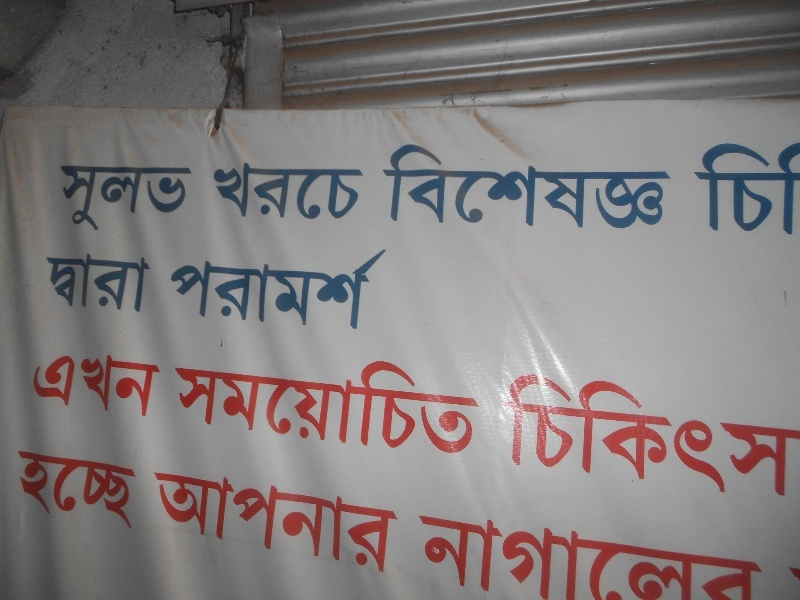text: (513, 372, 528, 503), (529, 372, 544, 503), (545, 372, 560, 503), (561, 372, 576, 503), (577, 372, 592, 503), (593, 372, 608, 503), (609, 372, 624, 503), (625, 372, 640, 503), (641, 372, 656, 503), (657, 372, 672, 503), (673, 372, 688, 503), (689, 372, 704, 503), (705, 372, 720, 503), (721, 372, 736, 503), (737, 372, 752, 503), (753, 372, 768, 503), (769, 372, 784, 503), (785, 372, 799, 503), (177, 351, 192, 459), (193, 351, 208, 459), (209, 351, 224, 459), (225, 351, 240, 459), (241, 351, 256, 459), (257, 351, 272, 459), (273, 351, 288, 459), (289, 351, 304, 459), (305, 351, 320, 459), (321, 351, 336, 459), (337, 351, 352, 459), (353, 351, 368, 459), (369, 351, 384, 459), (385, 351, 400, 459), (401, 351, 416, 459), (417, 351, 432, 459), (433, 351, 448, 459), (449, 351, 464, 459), (465, 351, 480, 459), (161, 469, 176, 575), (177, 469, 192, 575), (193, 469, 208, 575), (209, 469, 224, 575), (225, 469, 240, 575), (241, 469, 256, 575), (257, 469, 272, 575), (273, 469, 288, 575), (289, 469, 304, 575), (305, 469, 320, 575), (321, 469, 336, 575), (337, 469, 352, 575), (353, 469, 368, 575), (369, 469, 384, 575), (146, 469, 160, 575), (385, 469, 399, 575), (433, 507, 448, 600), (449, 507, 464, 600), (465, 507, 480, 600), (481, 507, 496, 600), (497, 507, 512, 600), (513, 507, 528, 600), (529, 507, 544, 600), (545, 507, 560, 600), (561, 507, 576, 600), (577, 507, 592, 600), (593, 507, 608, 600), (609, 507, 624, 600), (625, 507, 640, 600), (641, 507, 656, 600), (657, 507, 672, 600), (673, 507, 688, 600), (689, 507, 704, 600), (705, 507, 720, 600), (721, 507, 736, 600), (737, 507, 752, 600), (705, 143, 720, 234), (721, 143, 736, 234), (737, 143, 752, 234), (753, 143, 768, 234), (769, 143, 784, 234), (785, 143, 800, 234), (385, 144, 400, 234), (401, 144, 416, 234), (417, 144, 432, 234), (433, 144, 448, 234), (449, 144, 464, 234), (465, 144, 480, 234), (481, 144, 496, 234), (497, 144, 512, 234), (513, 144, 528, 234), (529, 144, 544, 234), (545, 144, 560, 234), (561, 144, 576, 234), (577, 144, 592, 234), (593, 144, 608, 234), (609, 144, 624, 234), (625, 144, 640, 234), (641, 144, 656, 234), (657, 144, 672, 234), (753, 507, 767, 600), (177, 249, 192, 332), (193, 249, 208, 332), (209, 249, 224, 332), (225, 249, 240, 332), (241, 249, 256, 332), (257, 249, 272, 332), (273, 249, 288, 332), (289, 249, 304, 332), (305, 249, 320, 332), (321, 249, 336, 332), (337, 249, 352, 332), (353, 249, 368, 332), (369, 249, 384, 332), (177, 165, 193, 236), (33, 452, 48, 527), (49, 452, 64, 527), (65, 452, 80, 527), (81, 452, 96, 527), (97, 452, 112, 527), (113, 452, 128, 527), (420, 507, 432, 600), (145, 351, 161, 418), (65, 165, 80, 236), (81, 165, 96, 236), (97, 165, 112, 236), (113, 165, 128, 236), (129, 165, 144, 236), (145, 165, 160, 236), (161, 165, 176, 236), (49, 351, 64, 418), (65, 351, 80, 418), (81, 351, 96, 418), (97, 351, 112, 418), (113, 351, 128, 418), (129, 351, 144, 418), (49, 253, 64, 314), (65, 253, 80, 314), (81, 253, 96, 314), (97, 253, 112, 314), (113, 253, 128, 314), (129, 253, 144, 314), (694, 143, 704, 234), (20, 452, 32, 527), (225, 163, 240, 220), (241, 163, 256, 220), (257, 163, 272, 220), (273, 163, 288, 220), (289, 163, 304, 220), (305, 163, 320, 220), (321, 163, 336, 220), (337, 163, 352, 220), (353, 163, 368, 220), (506, 372, 512, 503), (212, 163, 224, 220), (39, 351, 48, 418), (785, 542, 797, 588), (170, 249, 176, 332), (129, 452, 135, 527), (481, 351, 485, 459), (145, 253, 152, 314), (673, 144, 677, 234), (59, 165, 64, 236), (385, 249, 387, 332), (175, 351, 176, 459), (782, 542, 784, 588)
